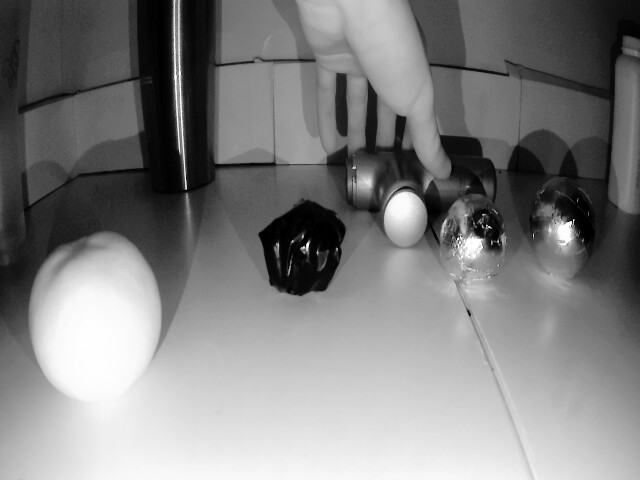black: (440, 185, 510, 295), (531, 176, 597, 276)
silver: (261, 203, 355, 296)
